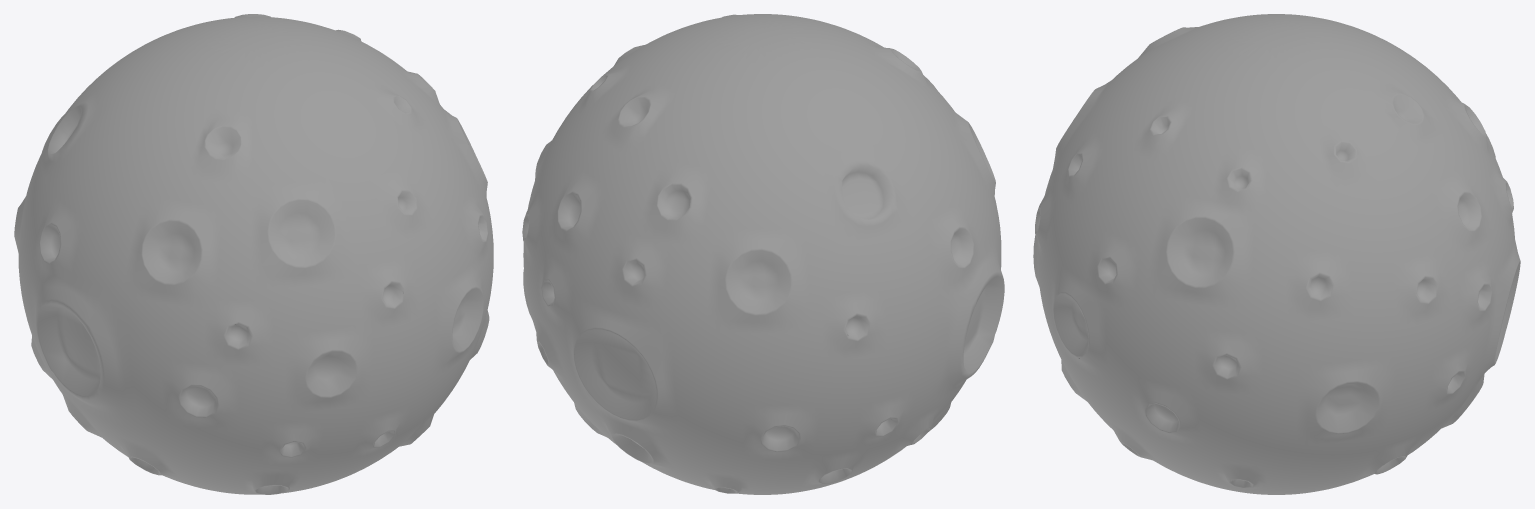
The model's file is moon.glb.
The picture shows the model from 3 angles, left to right: view 1: azimuth 30°, elevation 25°; view 2: azimuth 150°, elevation 25°; view 3: azimuth 270°, elevation 25°; orthographic projection.
Visible parts, largest first — view 1: Sphere; view 2: Sphere; view 3: Sphere.
Part boxes in pixels (x1,y1,x2,y2): Sphere: (14,14,493,494); Sphere: (522,14,1004,494); Sphere: (1033,14,1520,494).
Bounding box in the file's own units: 2.02 × 1.99 × 2.01.
1 material, 1 textured.
